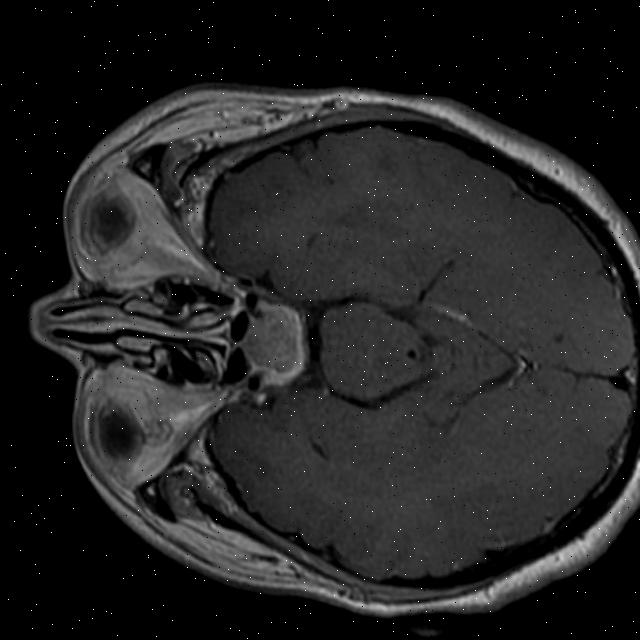Pituitary: (239, 300, 308, 377)
